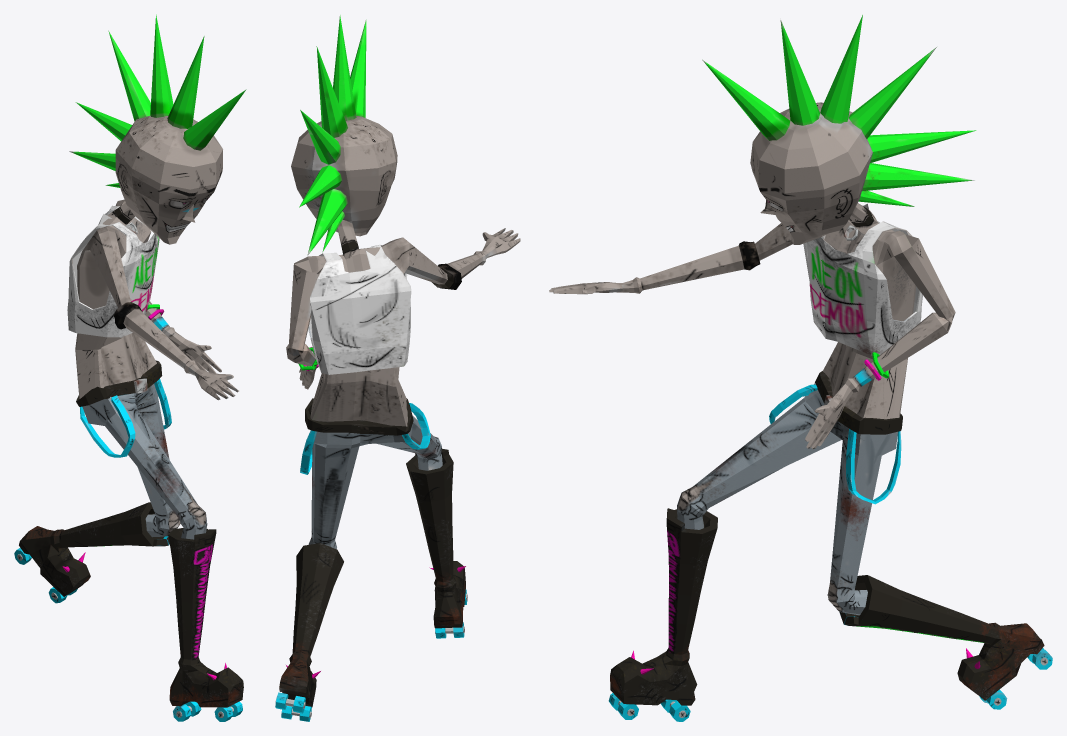
File: punkAnimation_000008.obj
The picture shows the model from 3 angles, left to right: view 1: azimuth 30°, elevation 25°; view 2: azimuth 150°, elevation 25°; view 3: azimuth 270°, elevation 25°; orthographic projection. The views are drawn at different scales.
Parts seen in each view (by area): view 1: Cube.004_Cube.003; view 2: Cube.004_Cube.003; view 3: Cube.004_Cube.003.
Part boxes in pixels (x1,y1,x2,y2): Cube.004_Cube.003: (14,14,246,721); Cube.004_Cube.003: (275,15,520,721); Cube.004_Cube.003: (549,15,1052,721).
Size of the model in its own units: 1.5 by 6.84 by 4.26.
